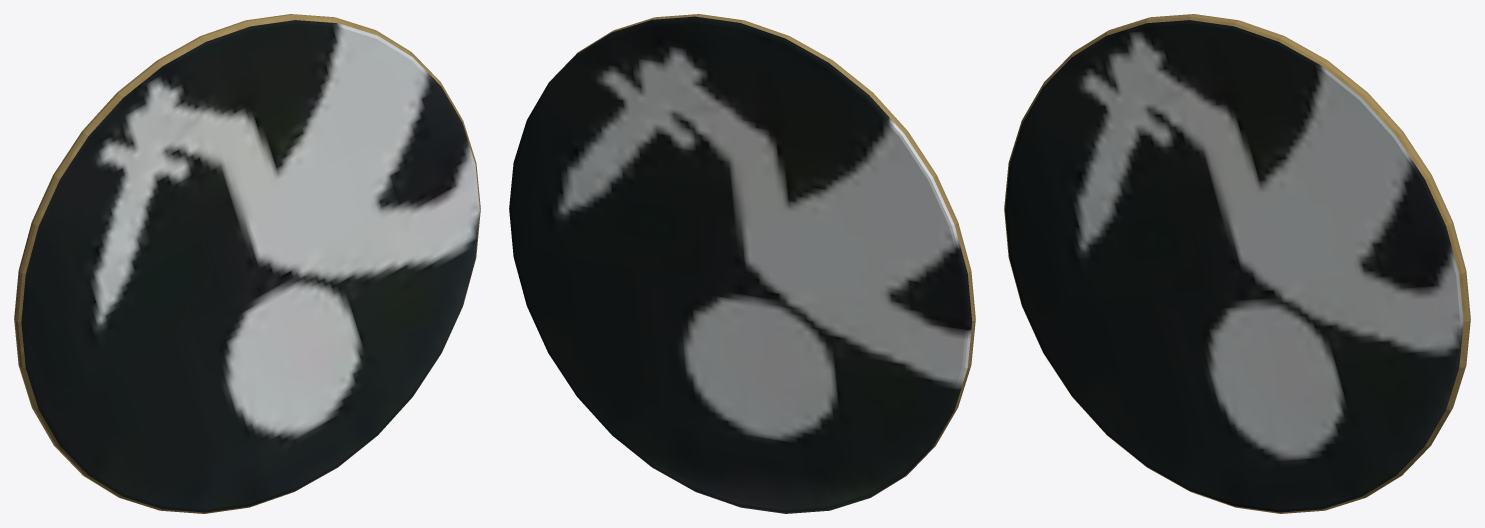
The model's file is Sneak Coin.fbx.
The picture shows the model from 3 angles, left to right: view 1: azimuth 30°, elevation 25°; view 2: azimuth 150°, elevation 25°; view 3: azimuth 330°, elevation 25°; orthographic projection.
Parts seen in each view (by area): view 1: Circle.008; view 2: Circle.008; view 3: Circle.008.
Boxes of the visible parts, bbox=[...] form: Circle.008: bbox=[14, 14, 480, 513]; Circle.008: bbox=[509, 14, 975, 513]; Circle.008: bbox=[1004, 14, 1470, 513].
Bounding box in the file's own units: 116 × 116 × 2.96.
Materials: 2 (2 with a texture image).
